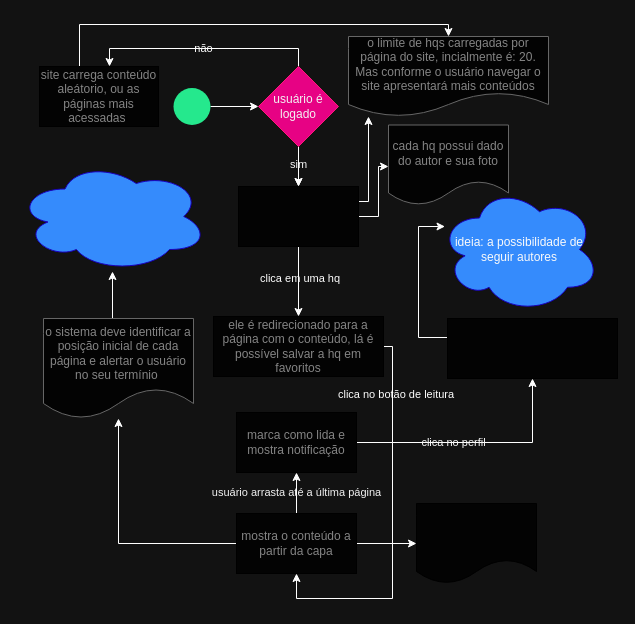
The diagram is 635 pixels wide and 624 high, and some of its shapes have lost their labels. Here are the shapes that lost their labels. From the top down, the box of each, then its label:
(173, 88, 210, 124): iniciar
(16, 160, 208, 272): ideia: o site pode conter um subsistema de achievements
(238, 186, 358, 246): site carrega contéudo com base no tema e usuários mais curtidos
(446, 318, 618, 378): site renderiza seções do perfil de usuário (com os favoritos, lidos etc)
(416, 502, 536, 584): deve possuir um marcador de páginas
